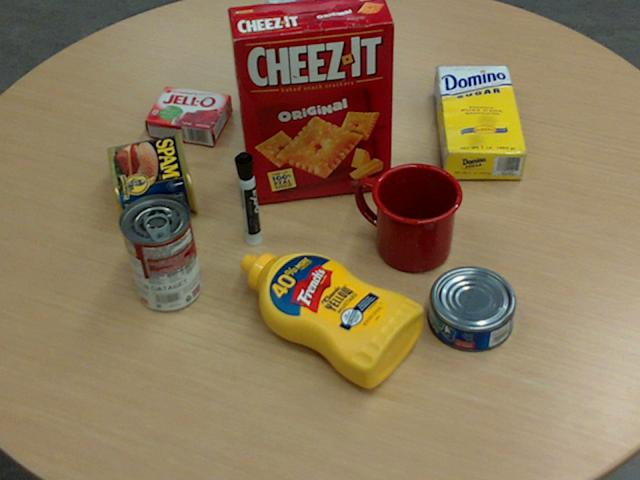cracker_box: (227, 0, 394, 203)
gelatin_box: (142, 85, 231, 145)
large_marker: (233, 152, 262, 247)
master_chef_can: (265, 0, 352, 125)
mug: (357, 161, 462, 271)
mustard_bottle: (239, 252, 423, 387)
potted_meat_can: (108, 130, 197, 223)
sugar_box: (434, 65, 527, 180)
tomato_soup_can: (117, 192, 200, 311)
tuna_fish_can: (428, 266, 517, 351)
